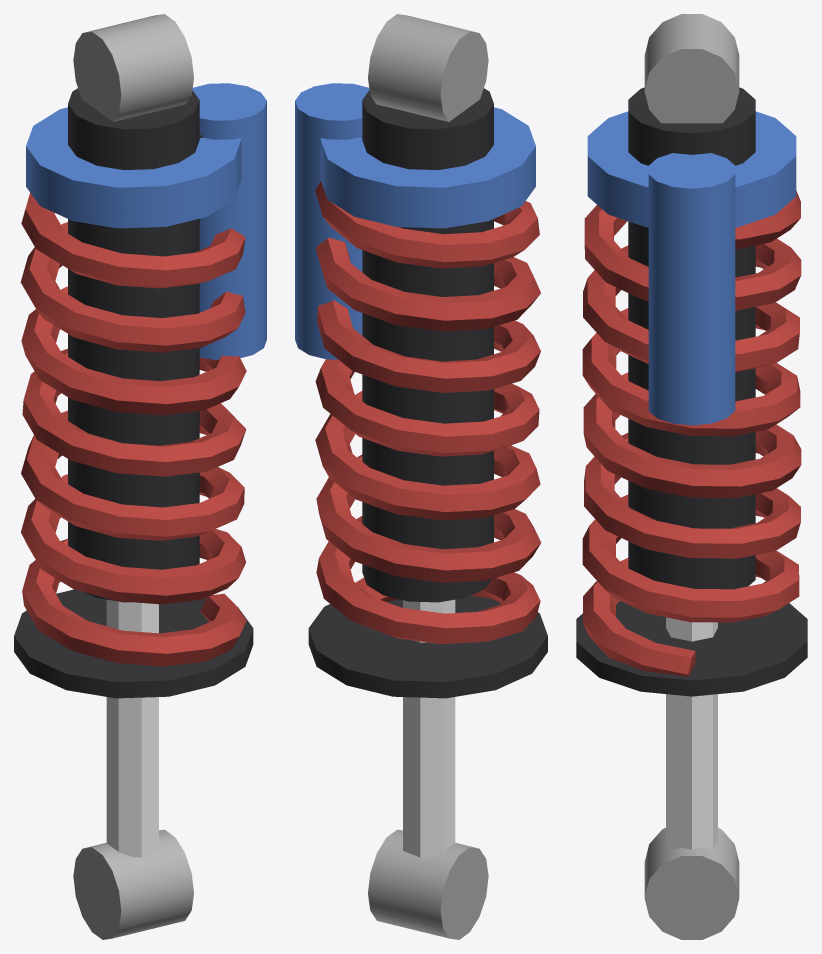
Rendered from mono_shock_mx.glb.
The picture shows the model from 3 angles, left to right: view 1: azimuth 30°, elevation 25°; view 2: azimuth 150°, elevation 25°; view 3: azimuth 270°, elevation 25°; orthographic projection.
Visible parts, largest first — view 1: lod0; view 2: lod0; view 3: lod0.
Boxes of the visible parts, box(x1,y1,x2,y2) form: lod0: box(14, 14, 266, 939); lod0: box(295, 14, 547, 939); lod0: box(576, 14, 807, 939).
Size of what is drawn, in the model's own units: 0.089 by 0.3312 by 0.078.
